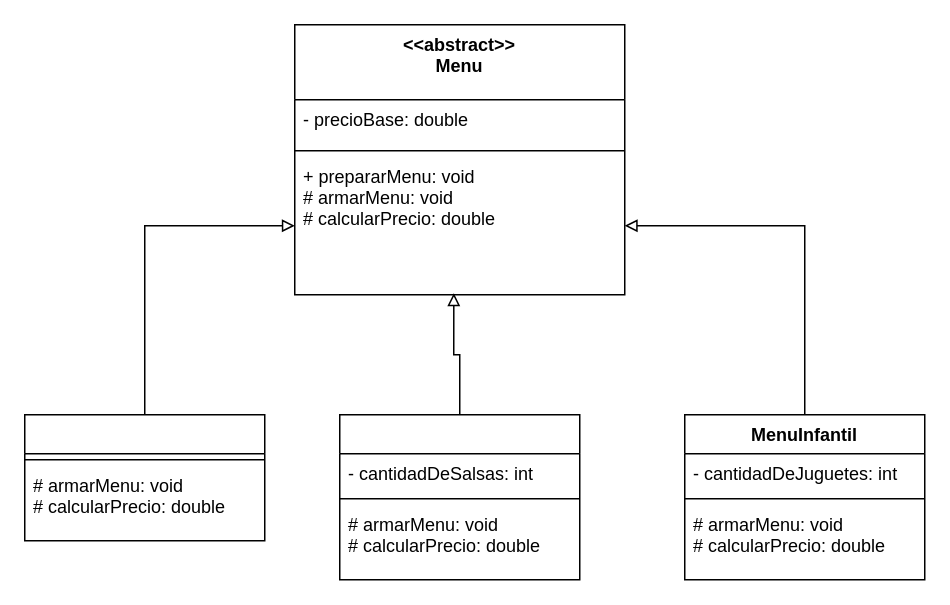
This 950x605 diagram has some shape labels left out. The box of each missing label's shape, as (x1, y1, x2, y2) in pixels:
MenuClasico: (23, 413, 265, 541)
MenuVegetariano: (338, 413, 580, 580)
